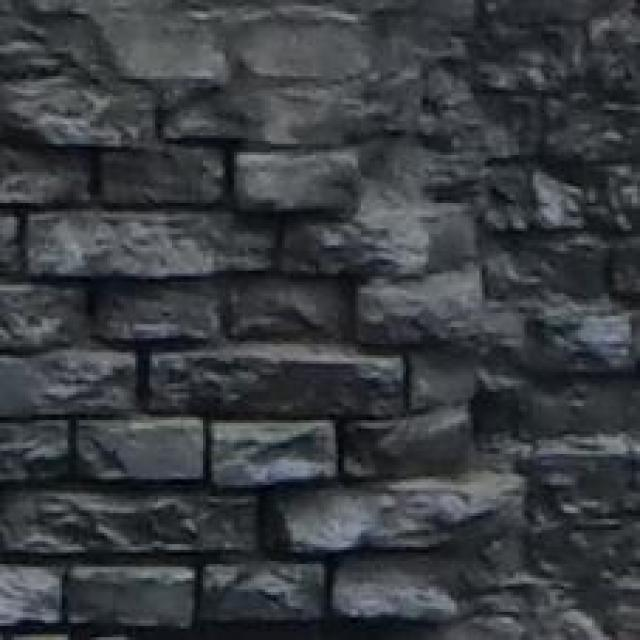Crack: (260, 8, 640, 630)
